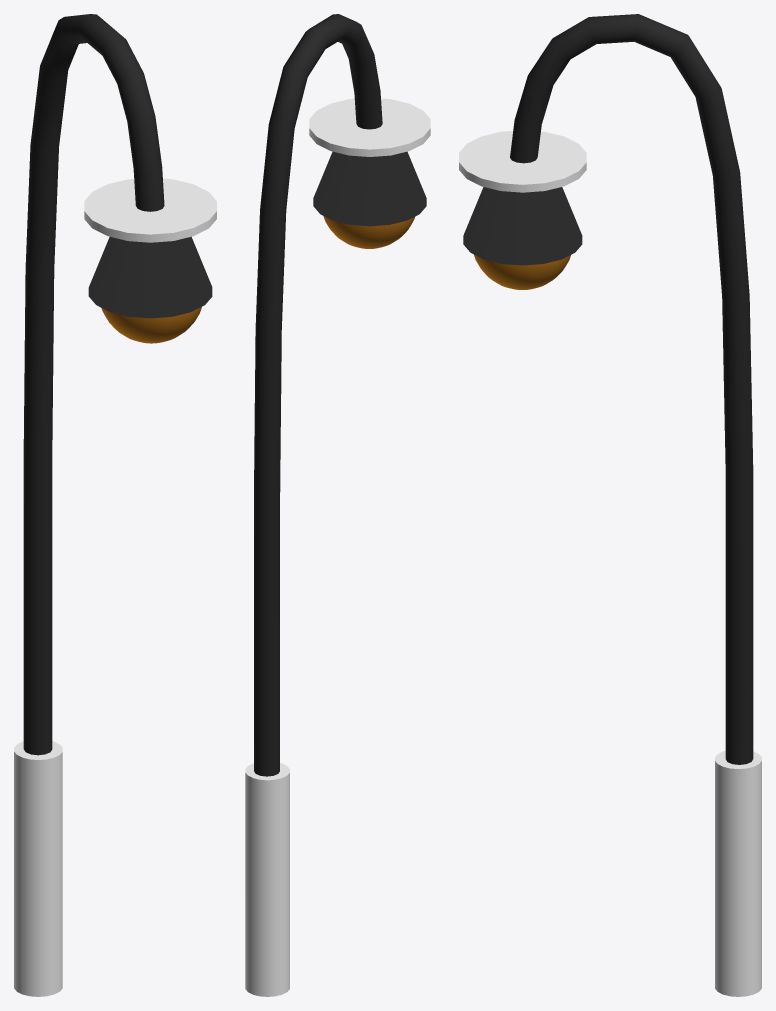
Rendered from 8hhAxfVhxyf.glb.
3 views of the same model, side by side, from view 1: azimuth 30°, elevation 25°; view 2: azimuth 150°, elevation 25°; view 3: azimuth 270°, elevation 25° (orthographic). The views are drawn at different scales.
Visible parts, largest first — view 1: Cylinder004, Cylinder005, Sphere002; view 2: Cylinder004, Cylinder005, Sphere002; view 3: Cylinder004, Cylinder005, Sphere002.
Part boxes in pixels (x1=…): Cylinder004: x1=23, y1=14, x2=212, y2=755; Cylinder005: x1=14, y1=178, x2=216, y2=996; Sphere002: x1=101, y1=307, x2=201, y2=343; Cylinder004: x1=254, y1=14, x2=426, y2=776; Cylinder005: x1=245, y1=98, x2=430, y2=996; Sphere002: x1=323, y1=216, x2=414, y2=248; Cylinder004: x1=463, y1=14, x2=753, y2=764; Cylinder005: x1=459, y1=131, x2=761, y2=996; Sphere002: x1=474, y1=254, x2=570, y2=289.
Size of the model in its own units: 0.1208 by 1 by 0.2824.
